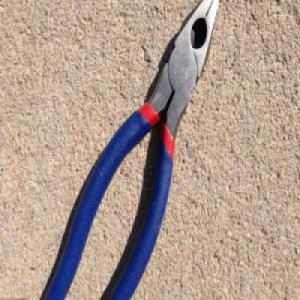Pliers: (42, 0, 220, 300)
